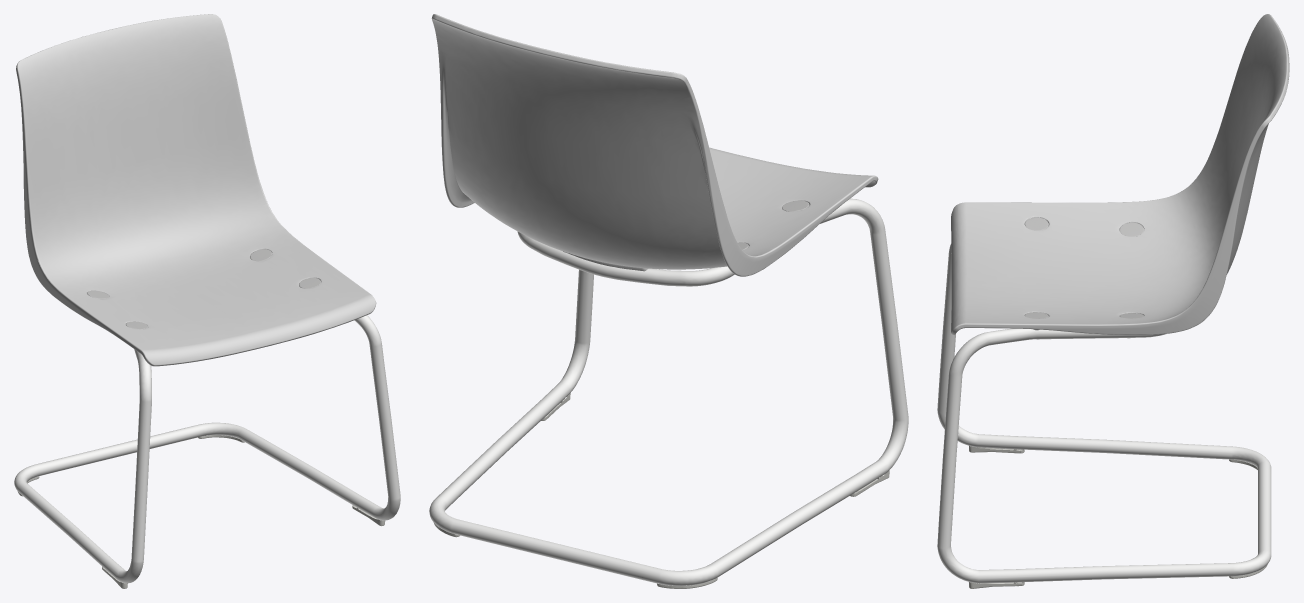
The model's file is chair-5.glb.
The picture shows the model from 3 angles, left to right: view 1: azimuth 30°, elevation 25°; view 2: azimuth 150°, elevation 25°; view 3: azimuth 270°, elevation 25°; orthographic projection. The views are drawn at different scales.
Parts seen in each view (by area): view 1: Mesh_0, Mesh_1; view 2: Mesh_0, Mesh_1; view 3: Mesh_0, Mesh_1.
Boxes of the visible parts, <box> form: Mesh_0: <box>16,14,376,366</box>; Mesh_1: <box>14,249,400,588</box>; Mesh_0: <box>431,14,878,276</box>; Mesh_1: <box>429,198,908,588</box>; Mesh_0: <box>951,14,1289,335</box>; Mesh_1: <box>937,217,1271,588</box>.
Bounding box in the file's own units: 0.5476 × 0.8187 × 0.5734.
2 materials, 1 textured.
